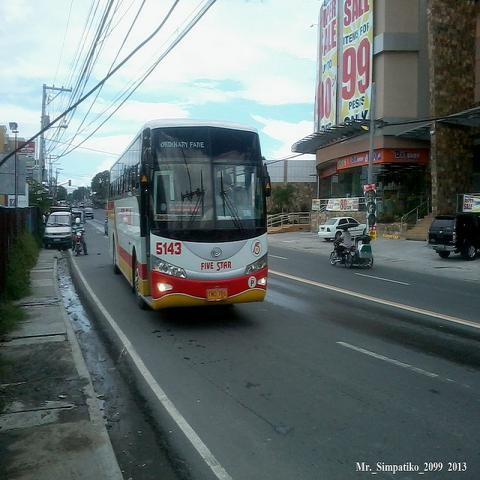bus: (106, 117, 272, 312)
car: (43, 211, 74, 250), (318, 217, 367, 241), (84, 208, 94, 219), (78, 205, 86, 212)
motorcycle: (329, 238, 356, 267), (354, 237, 376, 267), (72, 229, 86, 256)
truck: (428, 211, 480, 259)
